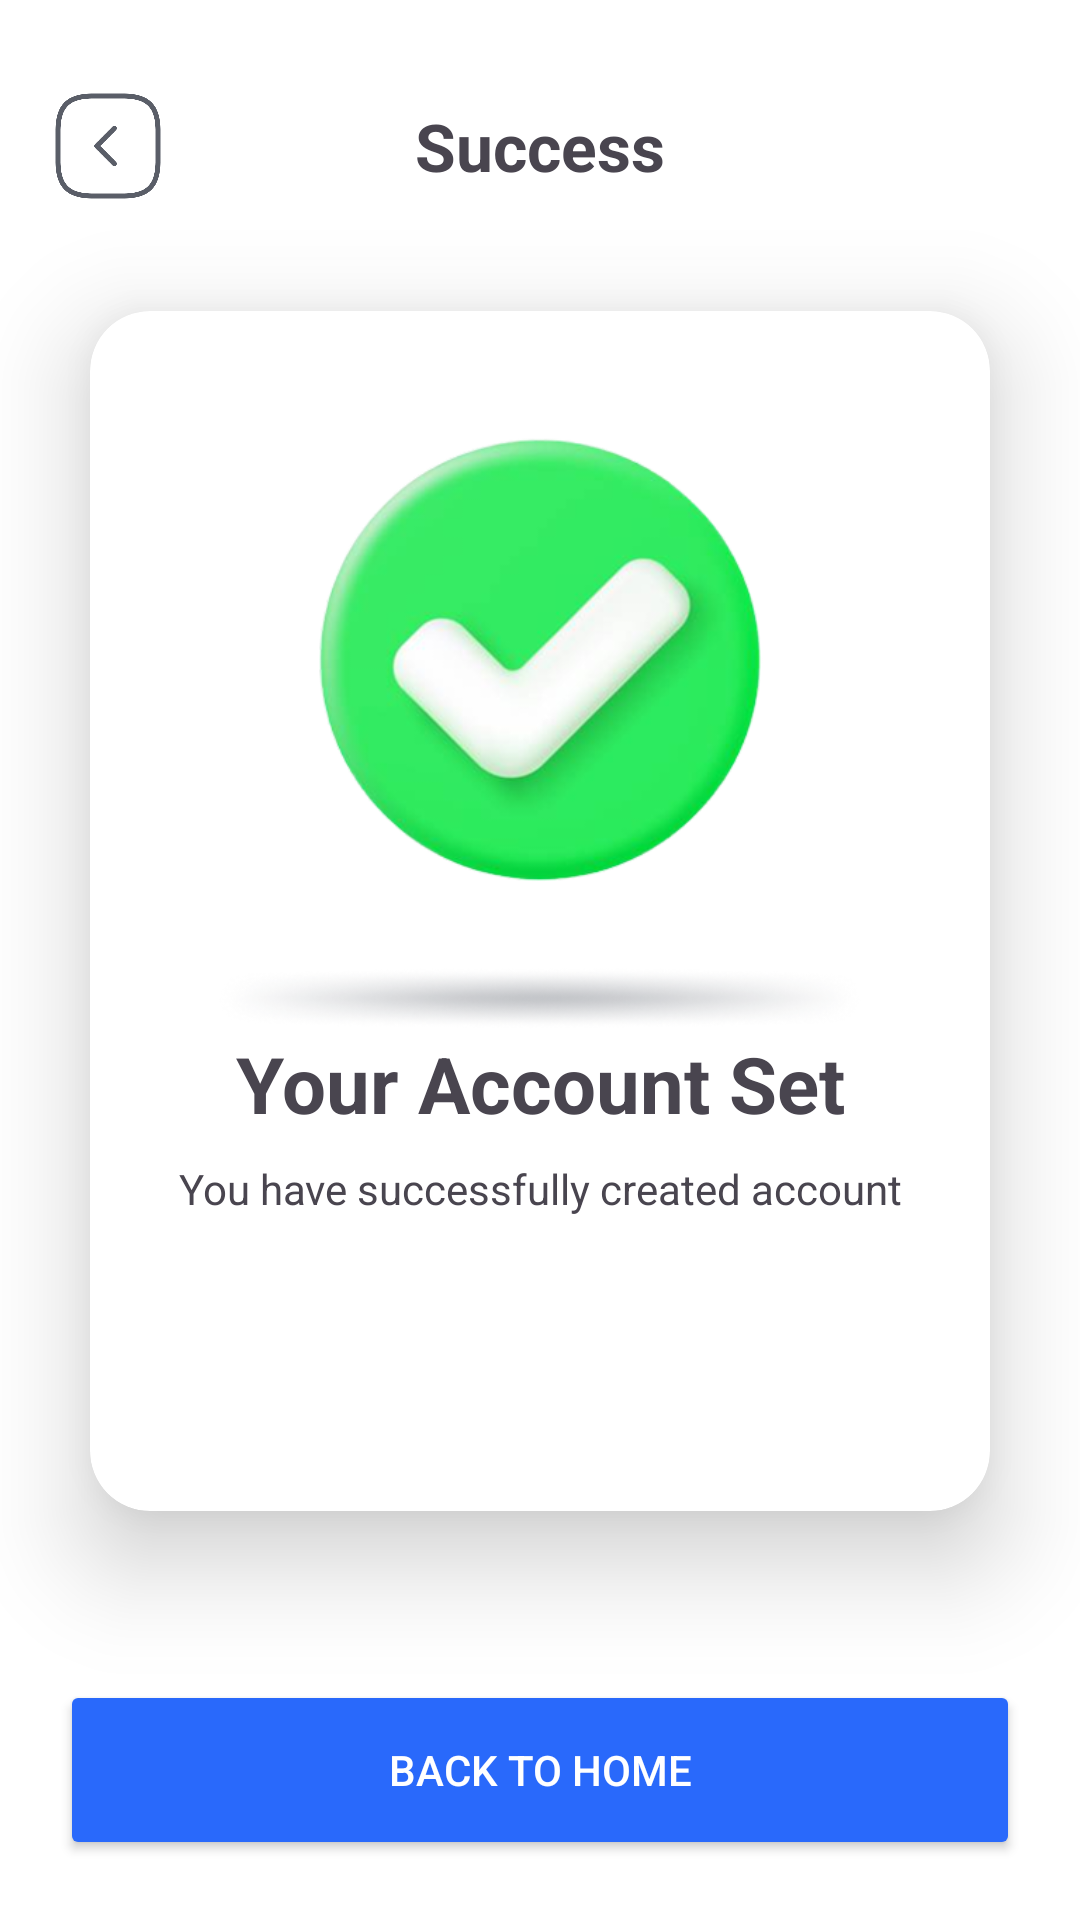

Named icons in this screenshot (1080x1920) and their centers, (x,y):
arrow back: (108,146)
